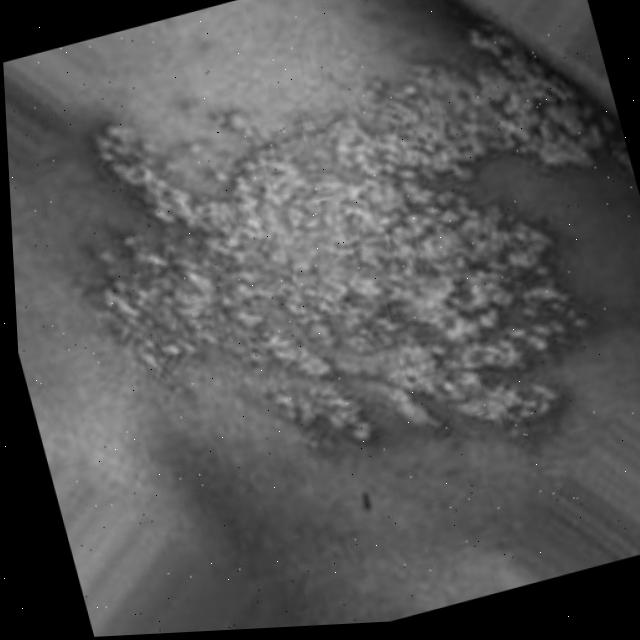Shingles: (42, 0, 640, 536)
